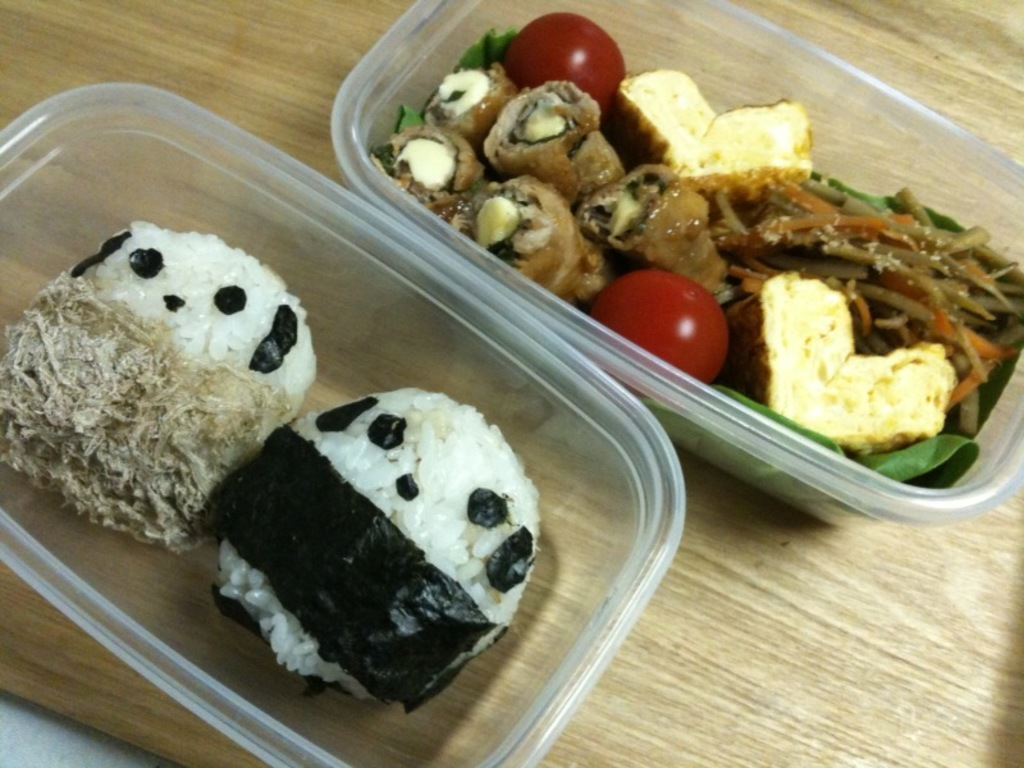sushi: (216, 385, 544, 707), (0, 225, 311, 552)
